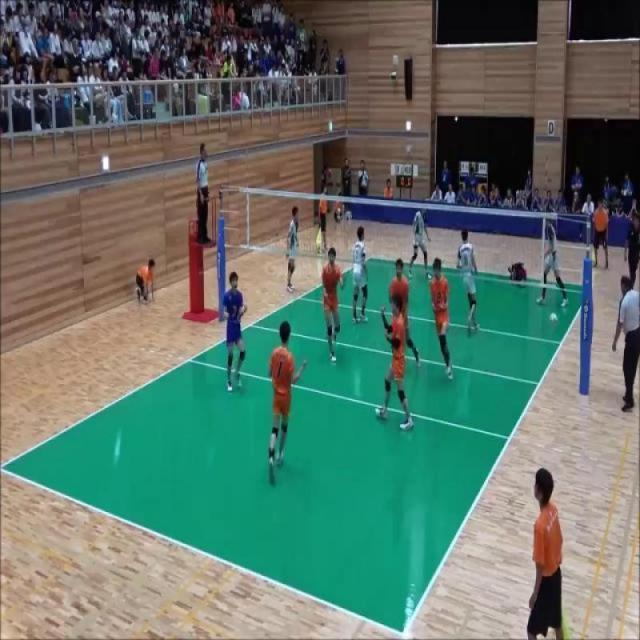volleyball: (550, 312, 558, 328)
